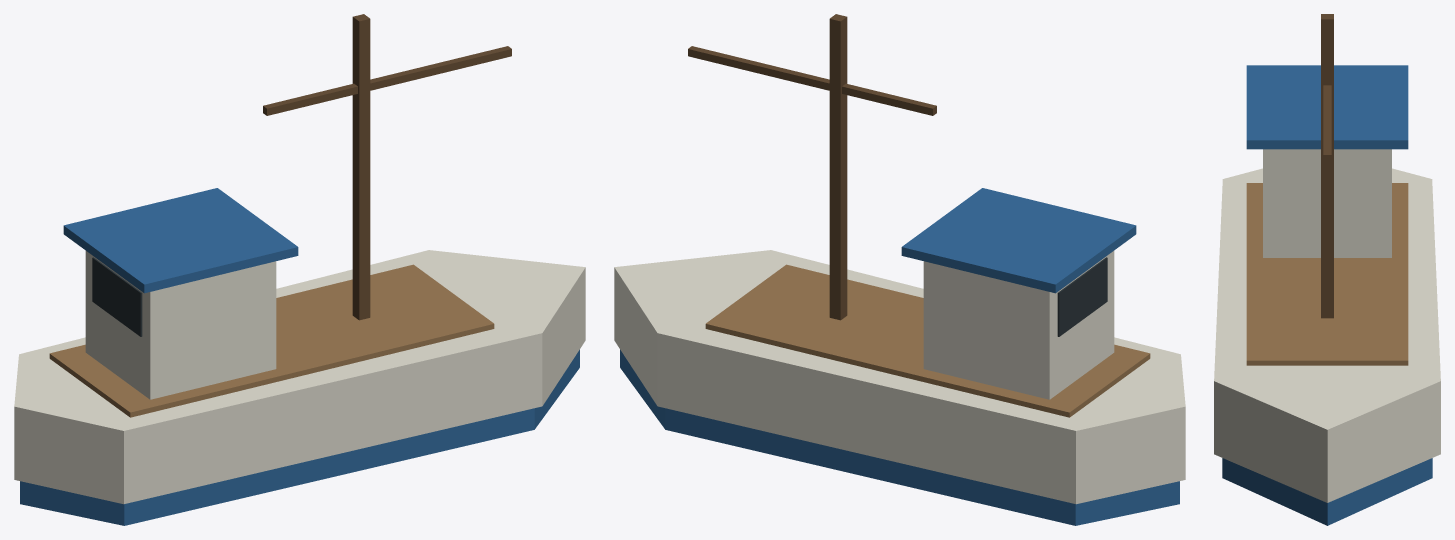
Rendered from barco_encalhado.glb.
The picture shows the model from 3 angles, left to right: view 1: azimuth 30°, elevation 25°; view 2: azimuth 150°, elevation 25°; view 3: azimuth 270°, elevation 25°; orthographic projection.
Visible parts, largest first — view 1: barco_encalhado; view 2: barco_encalhado; view 3: barco_encalhado.
Part boxes in pixels (x1,y1,x2,y2): barco_encalhado: (14,14,585,525); barco_encalhado: (614,14,1185,525); barco_encalhado: (1214,14,1440,525).
Bounding box in the file's own units: 8.16 × 5.5 × 2.81.
